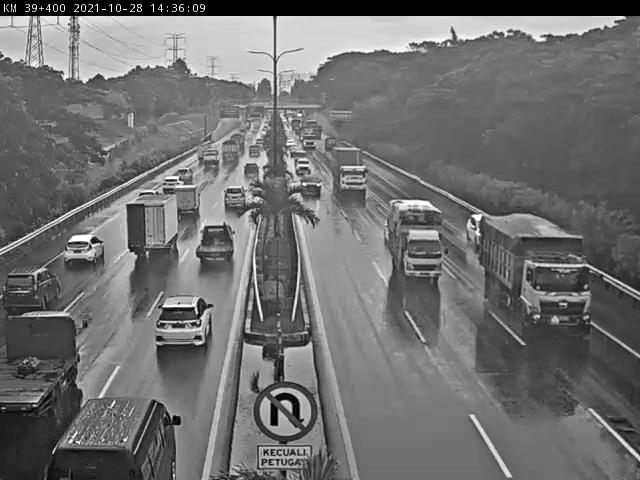big truck: (479, 206, 582, 318), (119, 197, 176, 272), (340, 158, 383, 200)
car: (46, 396, 189, 480), (145, 287, 220, 364), (0, 265, 67, 309), (191, 220, 241, 270), (51, 230, 107, 269), (465, 205, 487, 243), (297, 170, 323, 196), (219, 192, 245, 216), (241, 164, 258, 186), (293, 157, 314, 169), (169, 172, 186, 185), (133, 187, 153, 197), (156, 260, 157, 268)
small truck: (1, 315, 96, 443), (380, 195, 455, 288), (161, 196, 193, 223)
